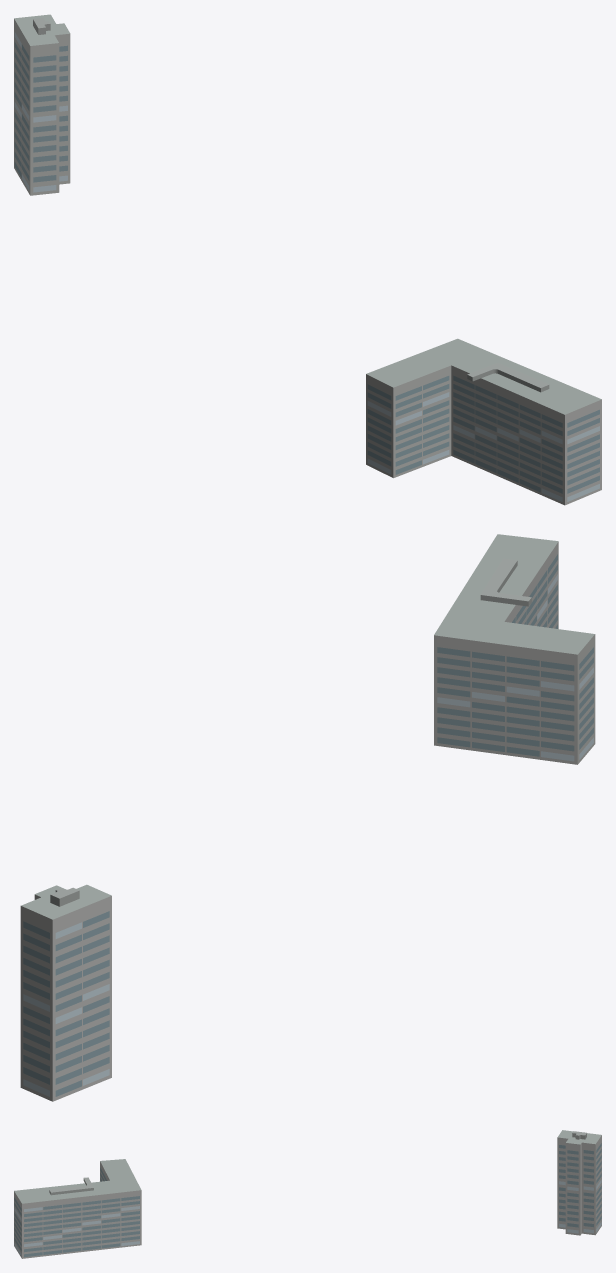
Rendered from apt-a10027714.glb.
3 renders of one model, top to bottom at view 1: azimuth 30°, elevation 25°; view 2: azimuth 150°, elevation 25°; view 3: azimuth 270°, elevation 25°, orthographic. The views are drawn at different scales.
Visible parts, largest first — view 1: apt-a10027714; view 2: apt-a10027714; view 3: apt-a10027714.
Part boxes in pixels (box(x1,y1,x2,y2)): apt-a10027714: box(14, 14, 601, 505); apt-a10027714: box(20, 534, 595, 1101); apt-a10027714: box(14, 1130, 601, 1258).
Size of the model in its own units: 48.3 by 47.81 by 268.
